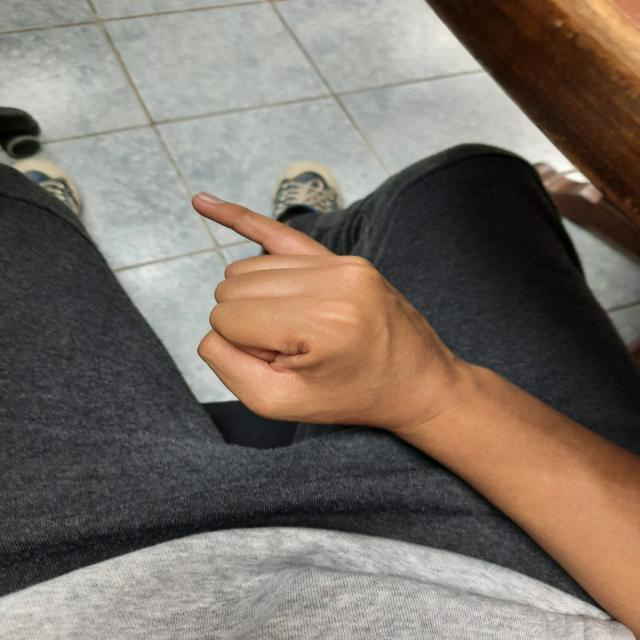Z: (181, 179, 450, 445)
